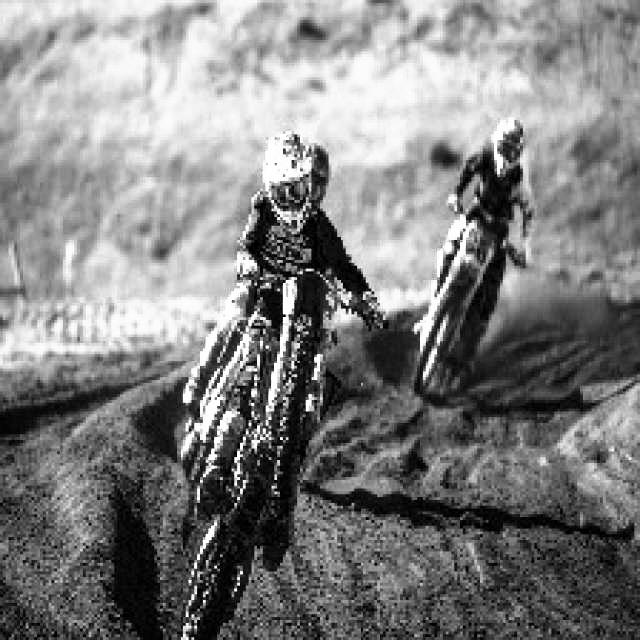Bike: (191, 241, 343, 639), (425, 189, 506, 392)
